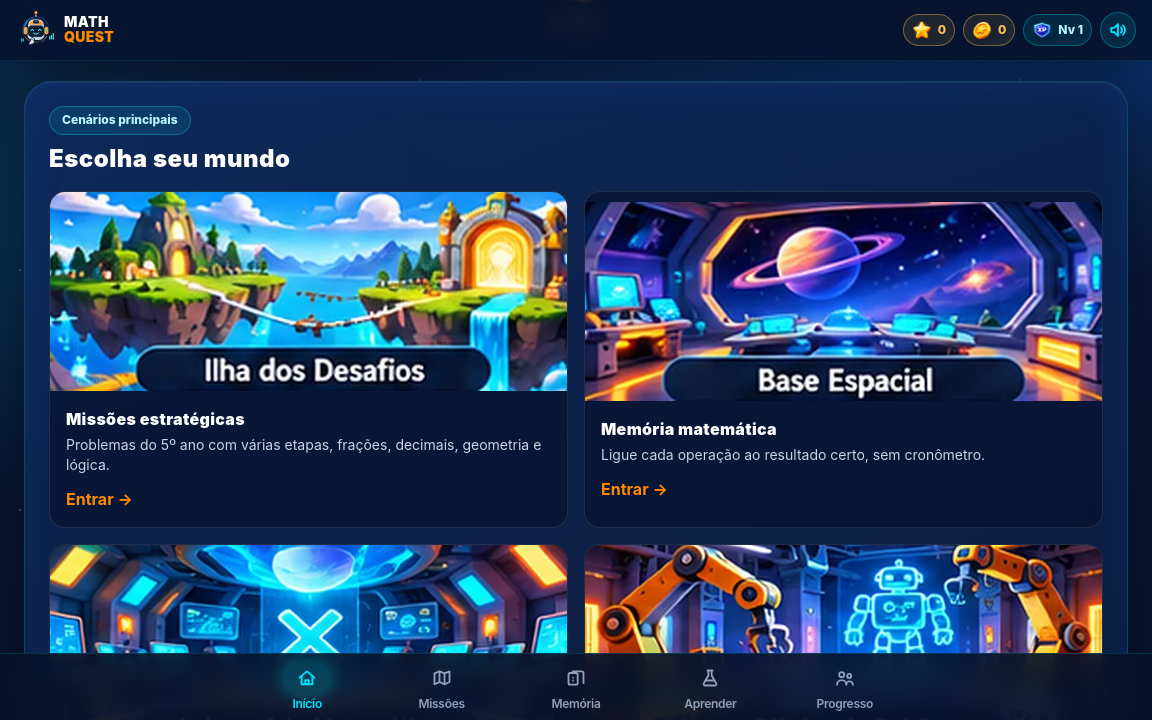
Test: 11–13 explorer app › opens the memory game from its world card and from the navigation
The image size is (1152, 720).
(page scrolled)
Click the button "Memória matemática": (844, 360) [584,191,1103,528]
(page scrolled)
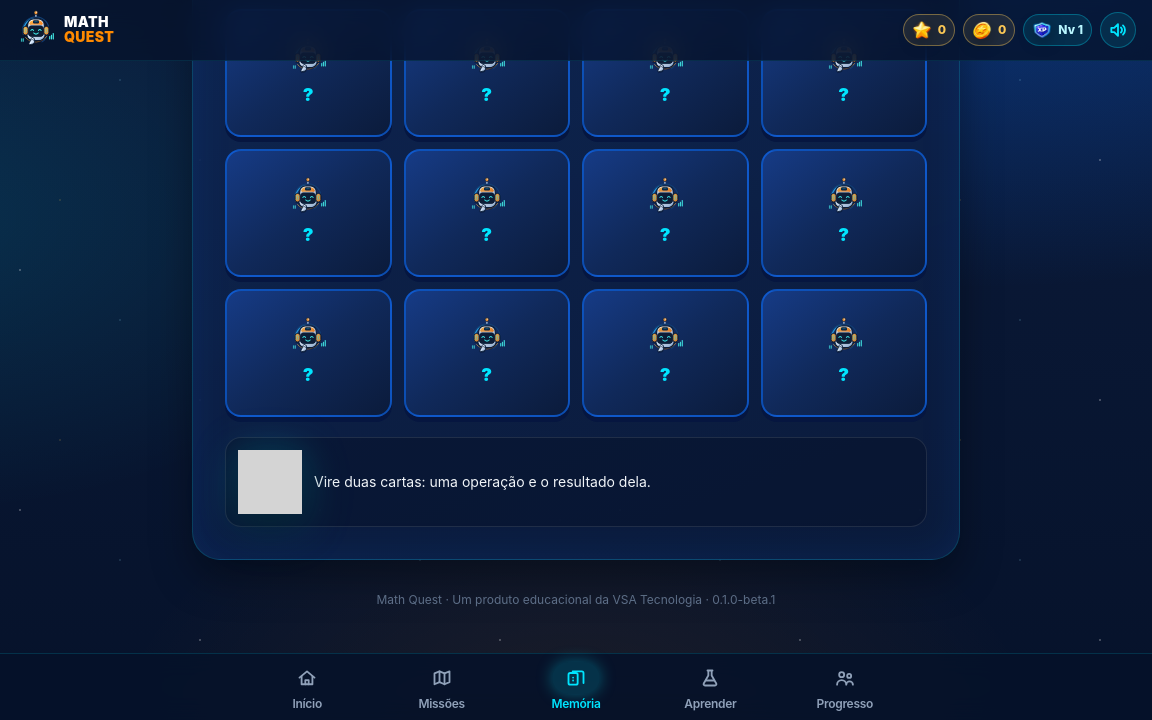
Click the button "Início": (307, 687) [240,654,374,719]
(page scrolled)
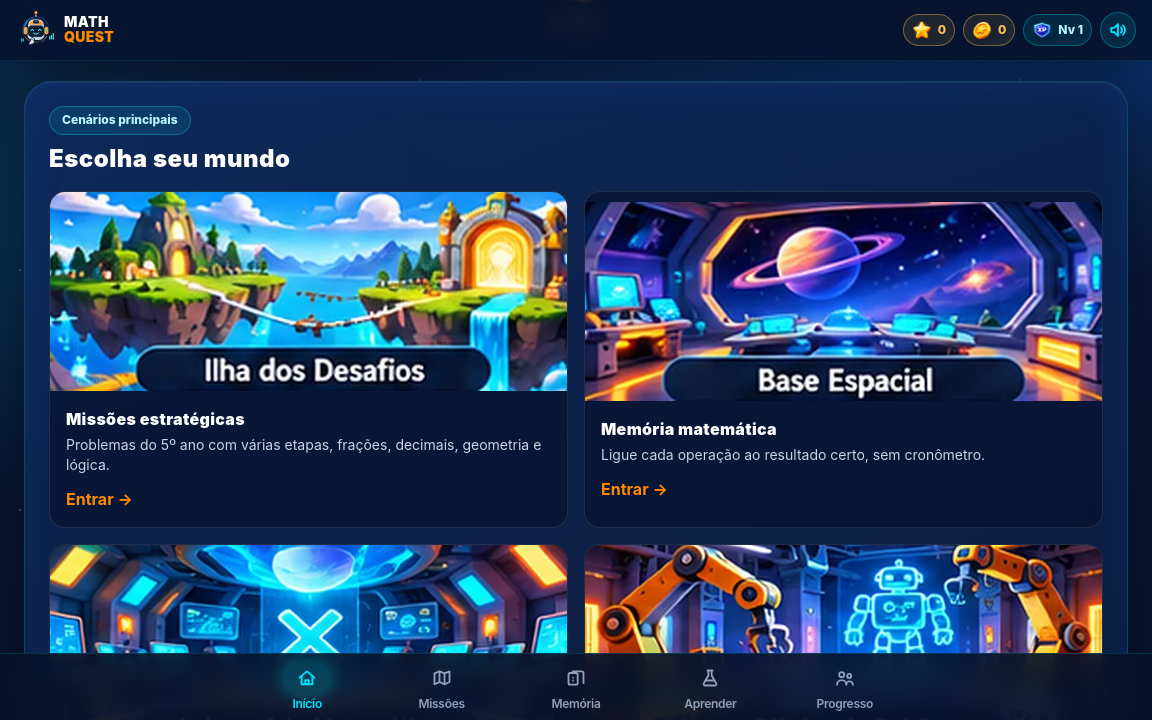
Click the button "Memória": (576, 687) [509,654,643,719]
(page scrolled)
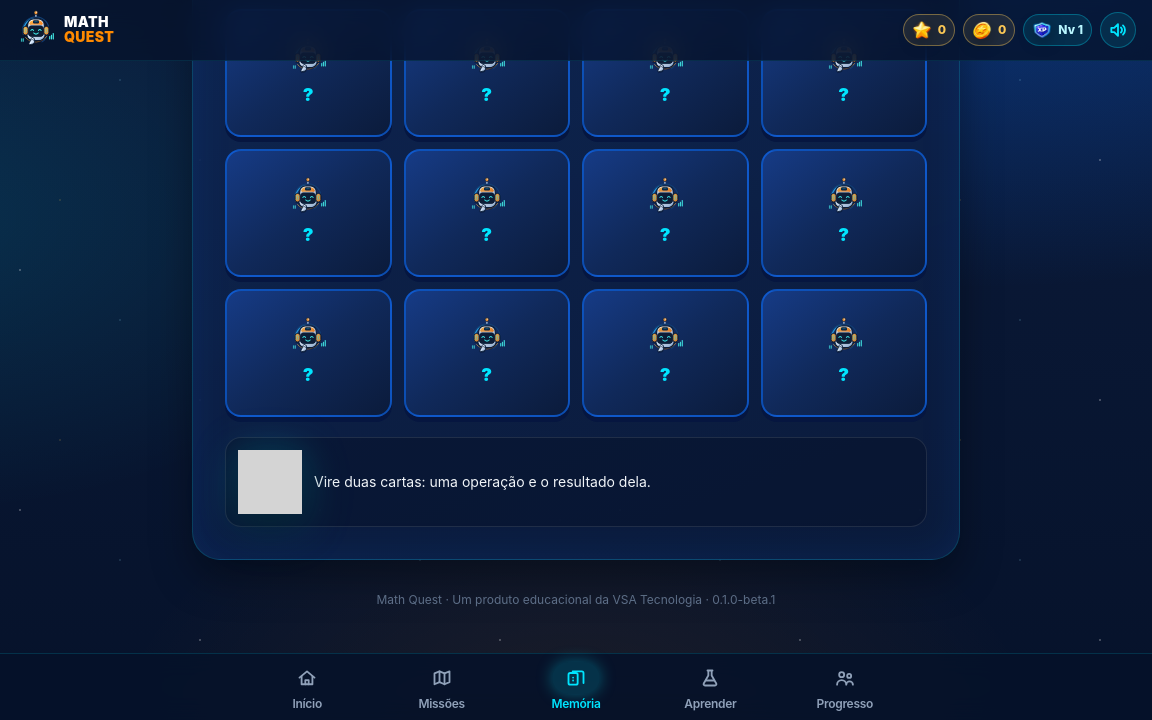
Result: the button named "virada para baixo" is shown at [225,9,392,137]
